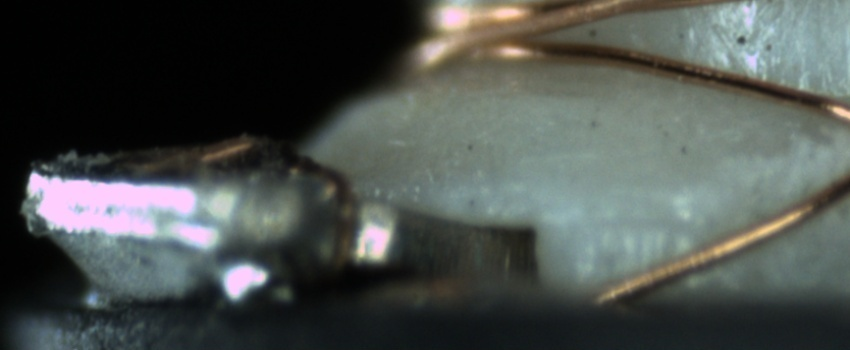DL: (589, 200, 701, 247)
TE: (188, 126, 358, 274)
